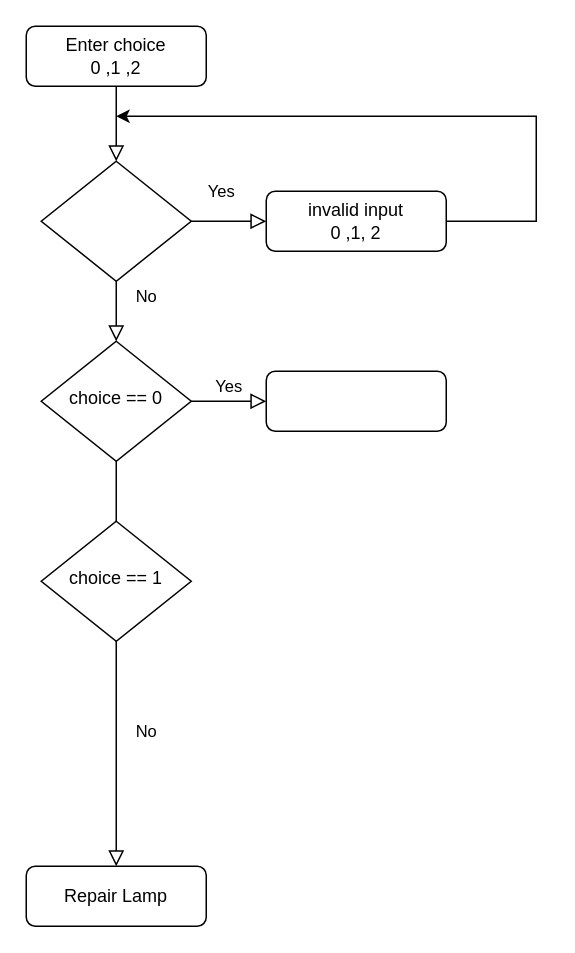
This 575x953 diagram has some shape labels left out. Here are the shapes that lost their labels. From the top down, the centre of each, then its label:
At point 115,220: "choice > 2".
At point 355,400: "Replace Bulb".
